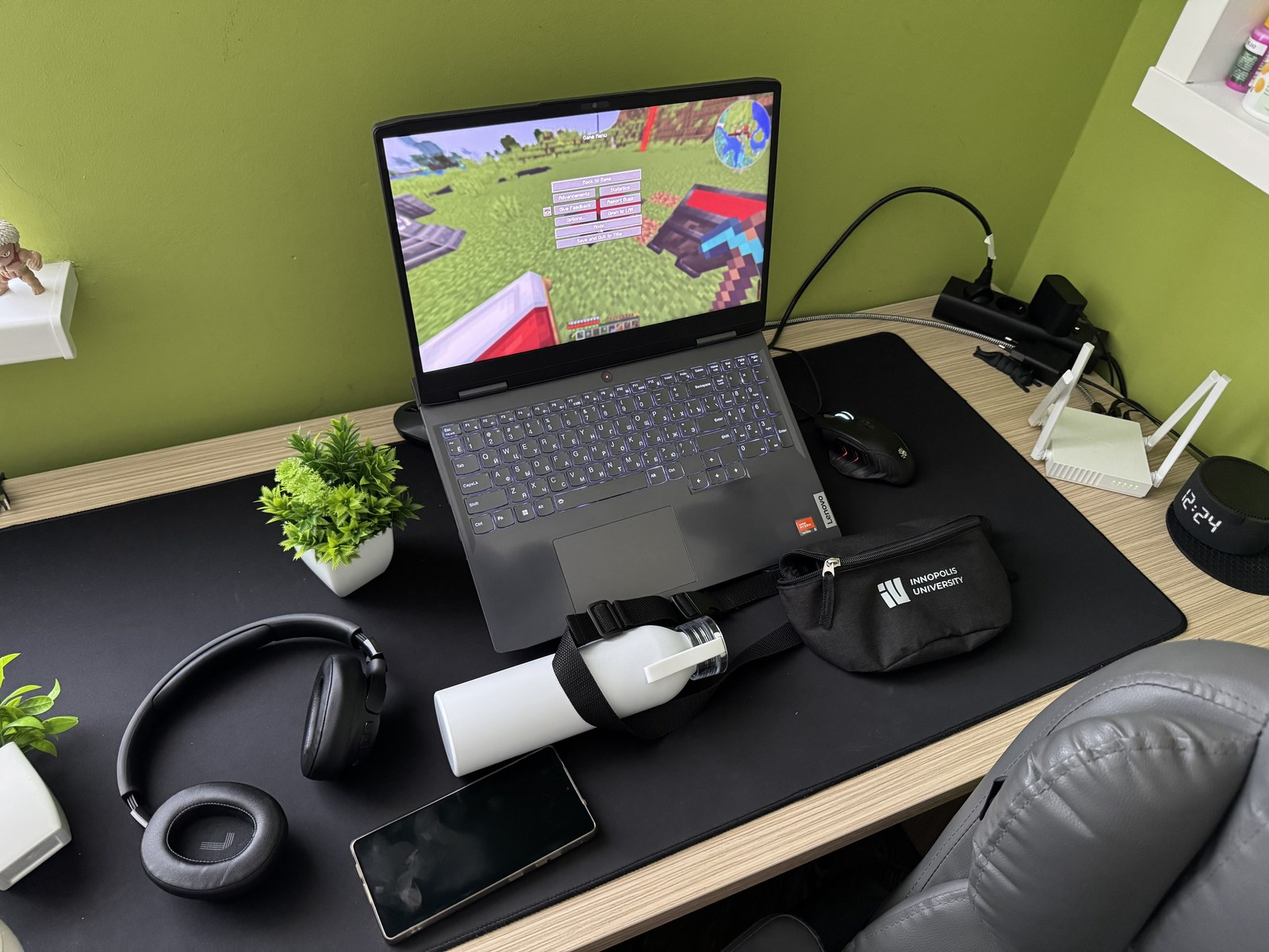cell phone: (349, 743, 598, 943)
laptop: (371, 76, 844, 653)
